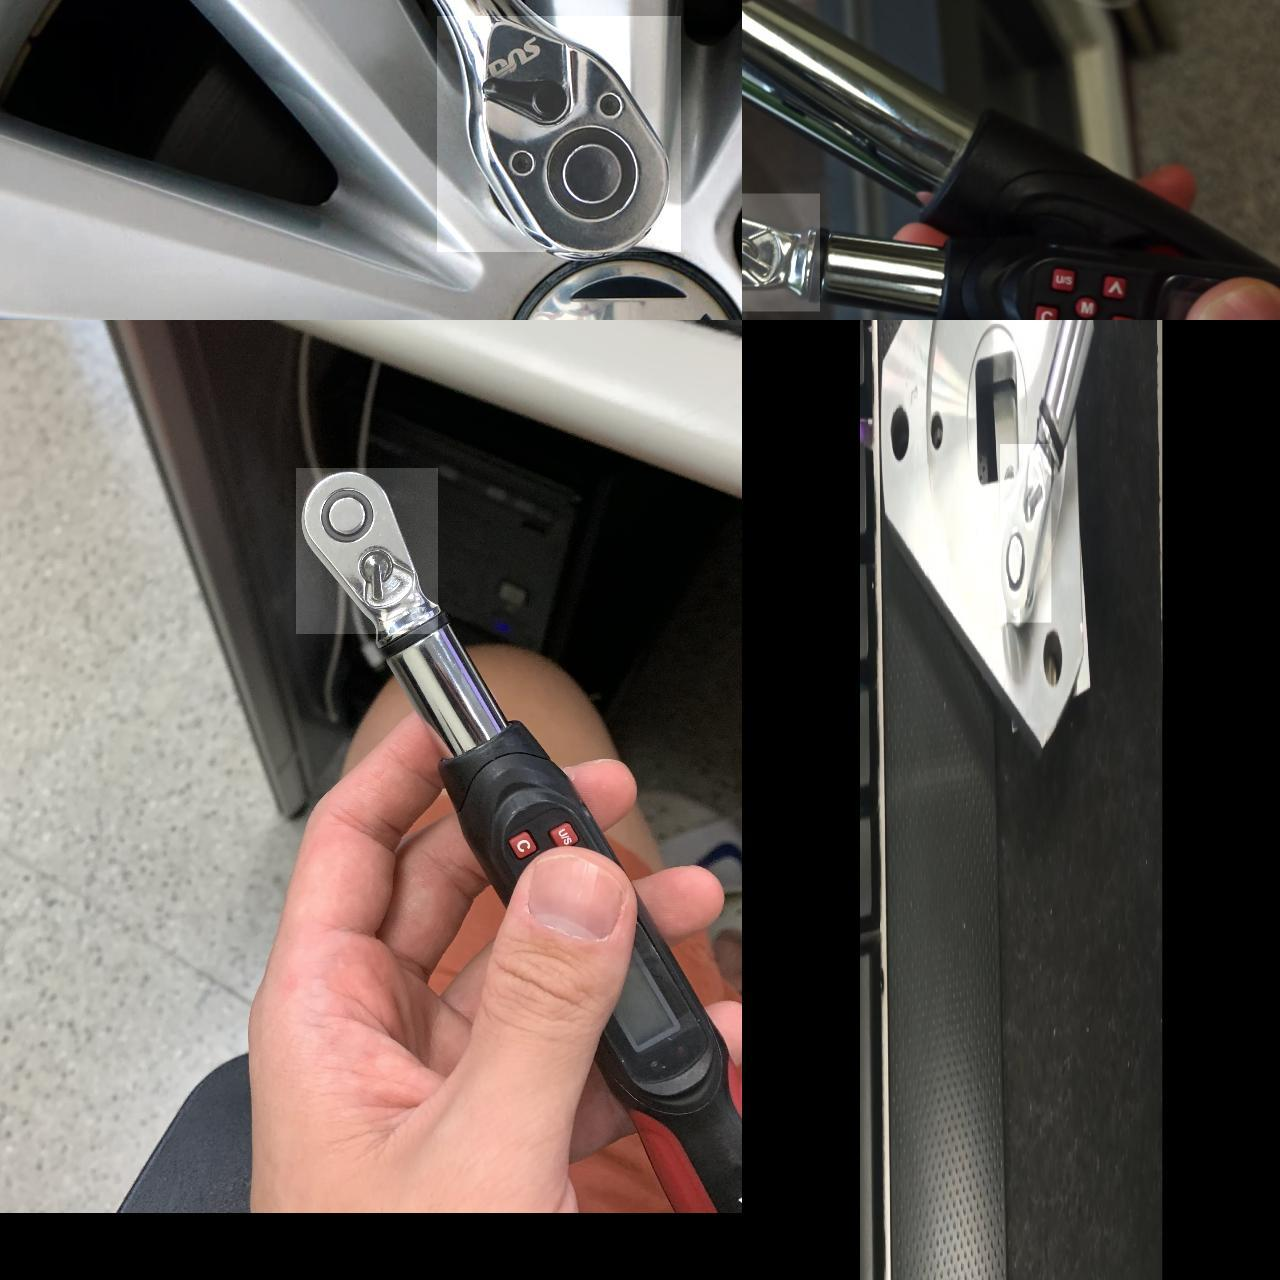Tool: (437, 15, 681, 251), (297, 467, 438, 633), (1000, 443, 1051, 621), (742, 193, 819, 311)
